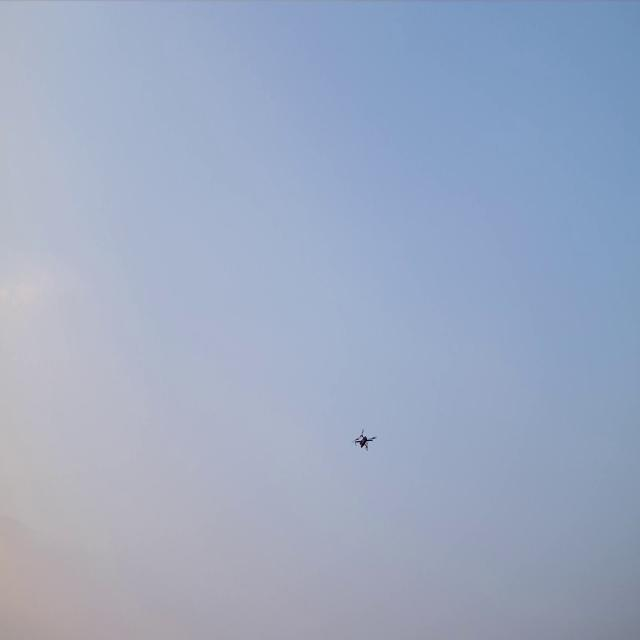UAV: (352, 431, 378, 450)
